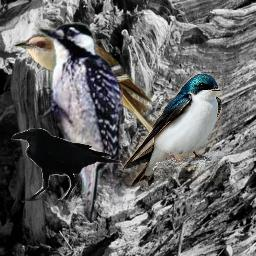Crow: (11, 128, 123, 203)
Cuckoo: (13, 34, 189, 169)
Swallow: (122, 73, 222, 186)
Woodpecker: (37, 22, 123, 220)
